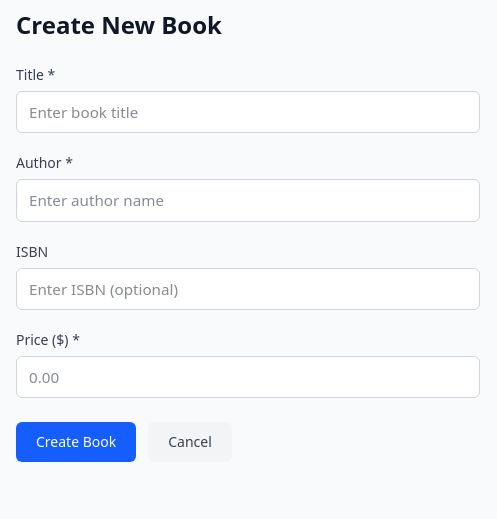
Scenario: BookForm › validation errors › displays "Author is required" when submitting with empty author
The image size is (497, 519).
# Fill only the title to isolate the author error
Type "Some Title" into the field labelled "Title *" at x=248, y=112, box [16,91,480,133]
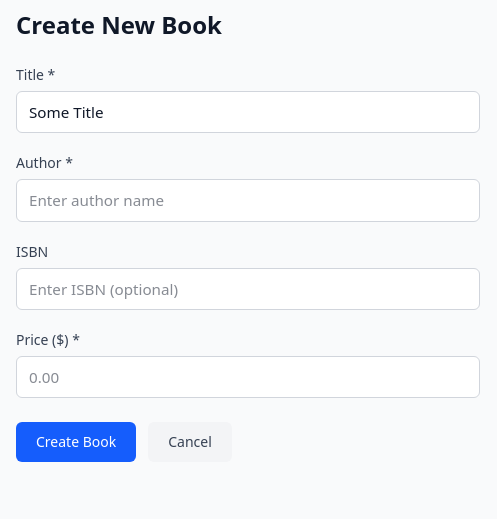
Click the button "Create Book" at x=76, y=442, box [16,422,136,462]
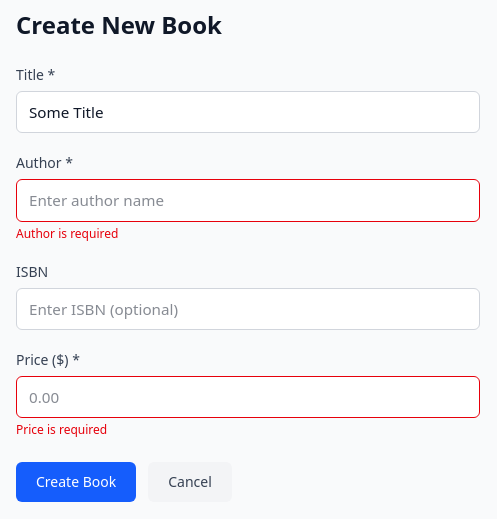
Now the text "Author is required" is shown, box [16,225,118,242]
